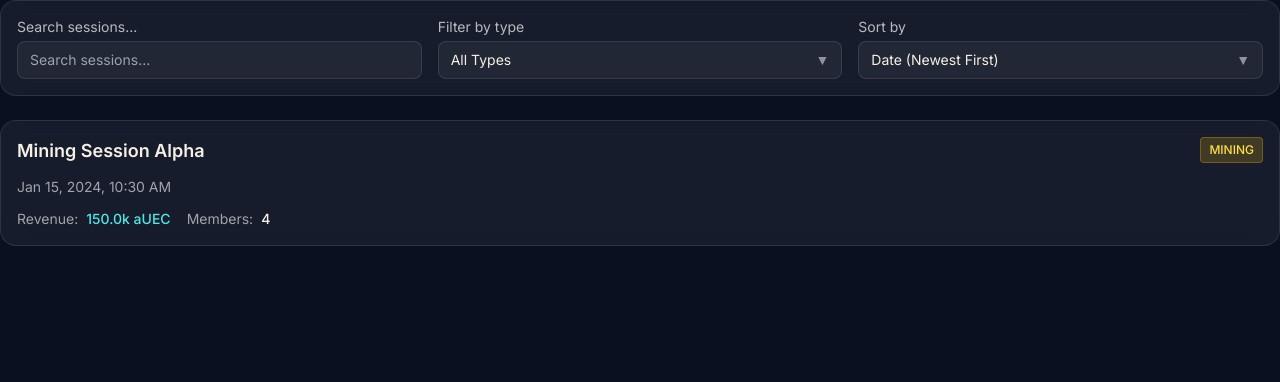
Test: SessionList - Type Filtering › should show empty state when type filter matches no sessions
The image size is (1280, 382).
Click the button with aria-label "Filter by type": (481, 60) [438,41,842,79]
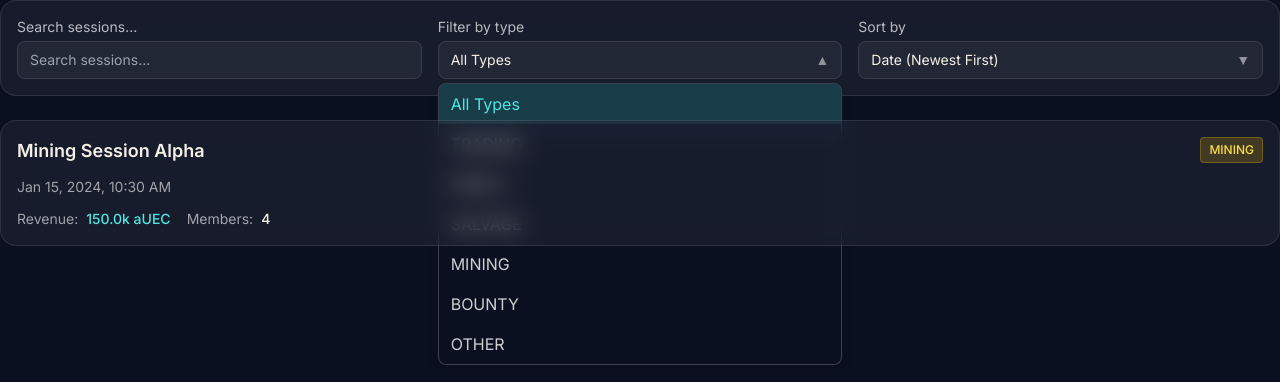
Click the option "BOUNTY": (485, 304) [451,294,519,314]
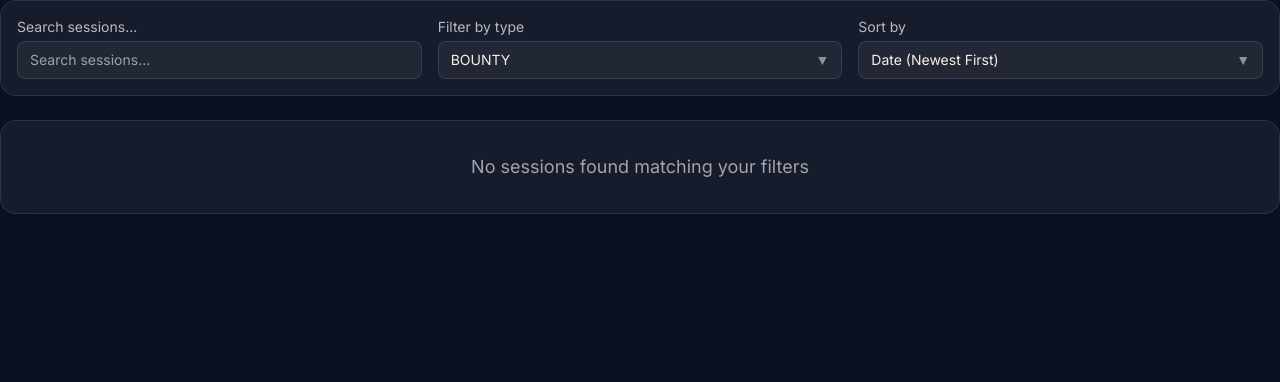
expect the text "No sessions found matching your filters" is shown: met, box [471,156,809,177]
